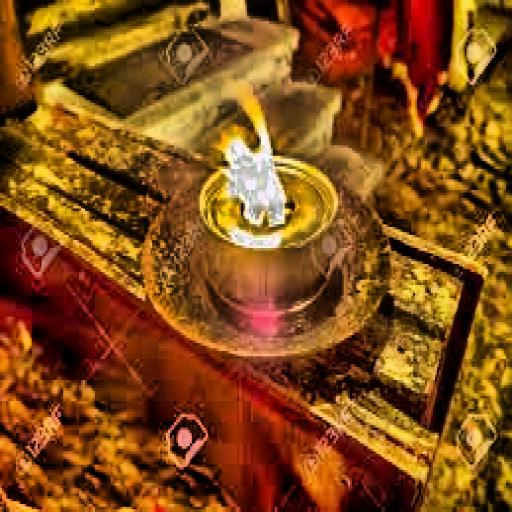fire: (218, 121, 292, 235)
